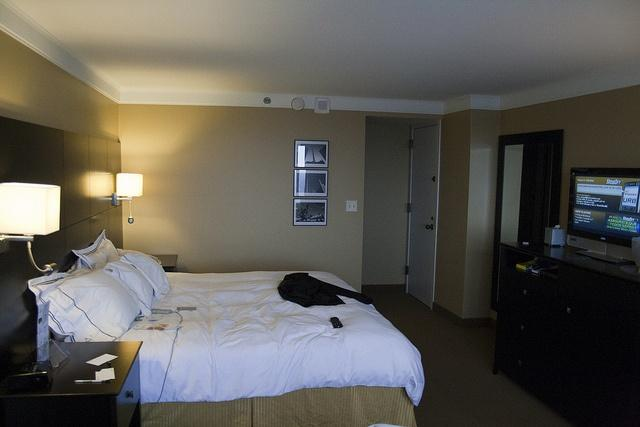AIO PC-Monitor-TV: (564, 165, 639, 265)
